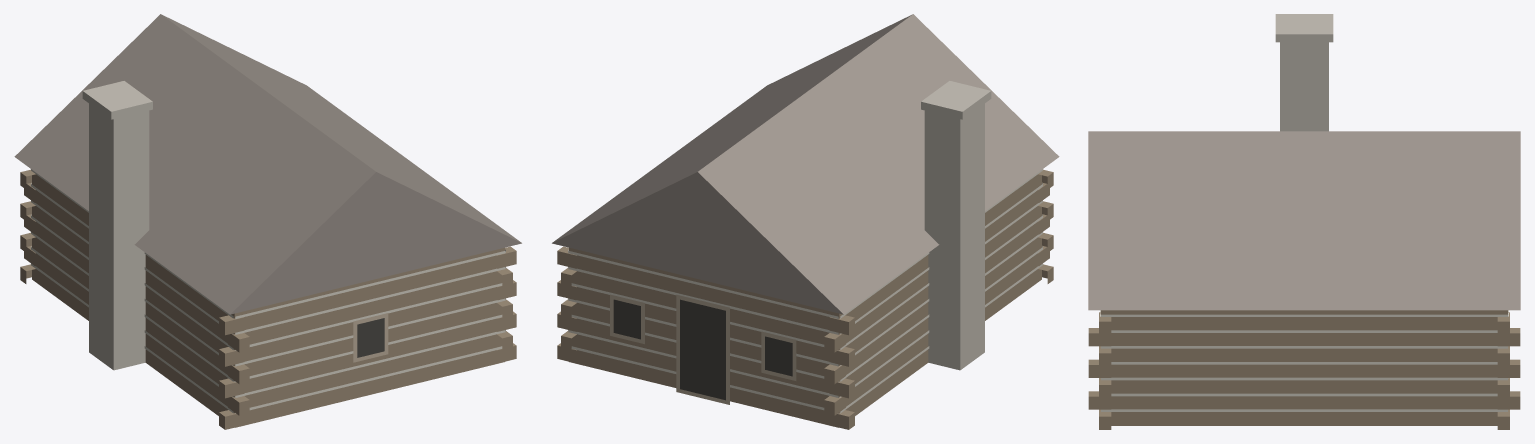
Rendered from harmon_log_cabin__documented_1835.glb.
3 views of the same model, side by side, from view 1: azimuth 30°, elevation 25°; view 2: azimuth 150°, elevation 25°; view 3: azimuth 270°, elevation 25° (orthographic).
Visible parts, largest first — view 1: harmon_log_cabin__documented_1835; view 2: harmon_log_cabin__documented_1835; view 3: harmon_log_cabin__documented_1835.
Boxes of the visible parts, box(x1,y1,x2,y2) form: harmon_log_cabin__documented_1835: box(14, 14, 521, 429); harmon_log_cabin__documented_1835: box(552, 14, 1059, 429); harmon_log_cabin__documented_1835: box(1088, 14, 1520, 429).
Bounding box in the file's own units: 7.17 × 5.69 × 8.43.
